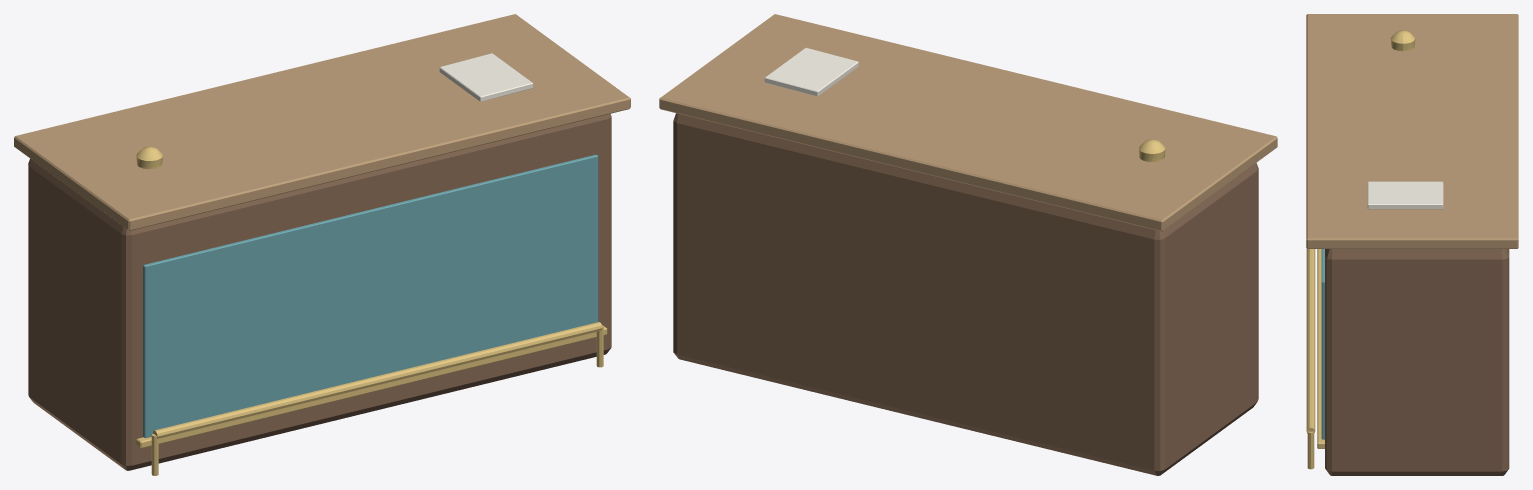
Rendered from escape-room-and-puzzle-venue-reception-desk-ce3da671__35804.glb.
3 views of the same model, side by side, from view 1: azimuth 30°, elevation 25°; view 2: azimuth 150°, elevation 25°; view 3: azimuth 270°, elevation 25° (orthographic). The views are drawn at different scales.
Parts seen in each view (by area): view 1: reception-desk; view 2: reception-desk; view 3: reception-desk.
Boxes of the visible parts, <box> form: reception-desk: <box>14,14,630,475</box>; reception-desk: <box>659,14,1277,475</box>; reception-desk: <box>1306,14,1518,475</box>.
Size of the model in its own units: 2.26 by 1.2 by 0.9.
